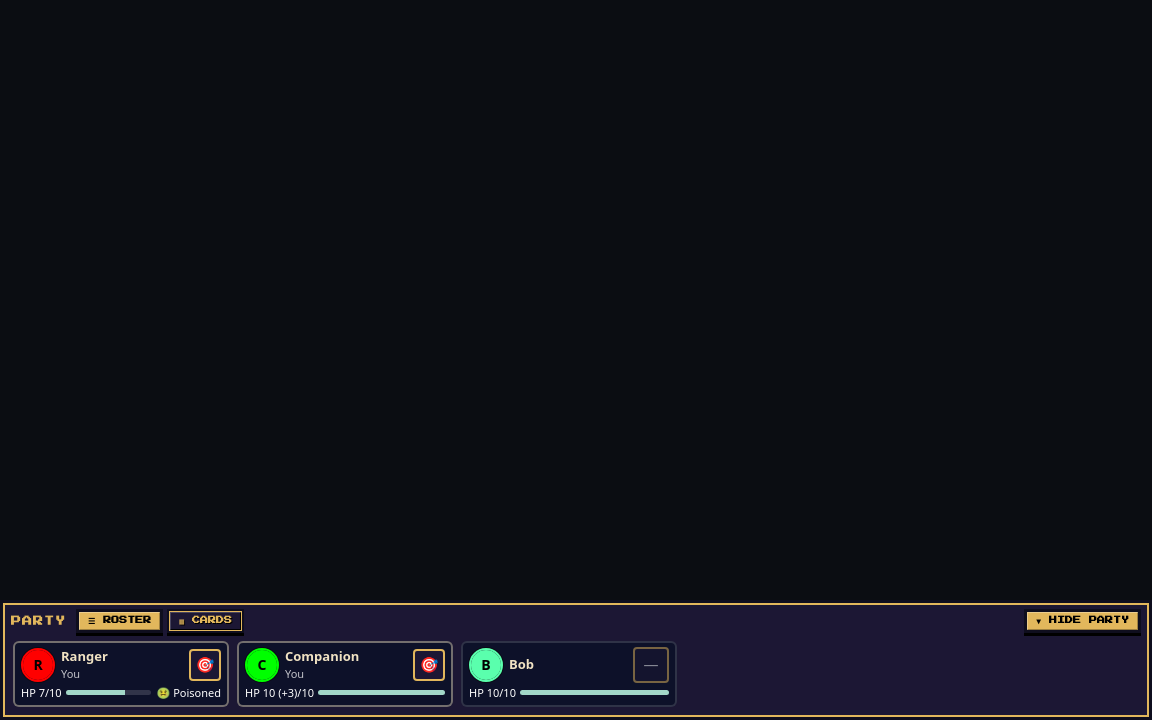
Test case: EntitiesPanel — the compact roster (U7) › Hide keeps the bar — and the launcher dock the bar reports — on screen
Check: the element showing "Party ☰ Roster ▦ Cards ▼ Hide party" is shown, box [11,608,1141,632]
What coordinates should you click on to do the following:
click the button "▼ Hide party"
I would click on:
 (1083, 620)
Its box is [1024,608,1141,632].
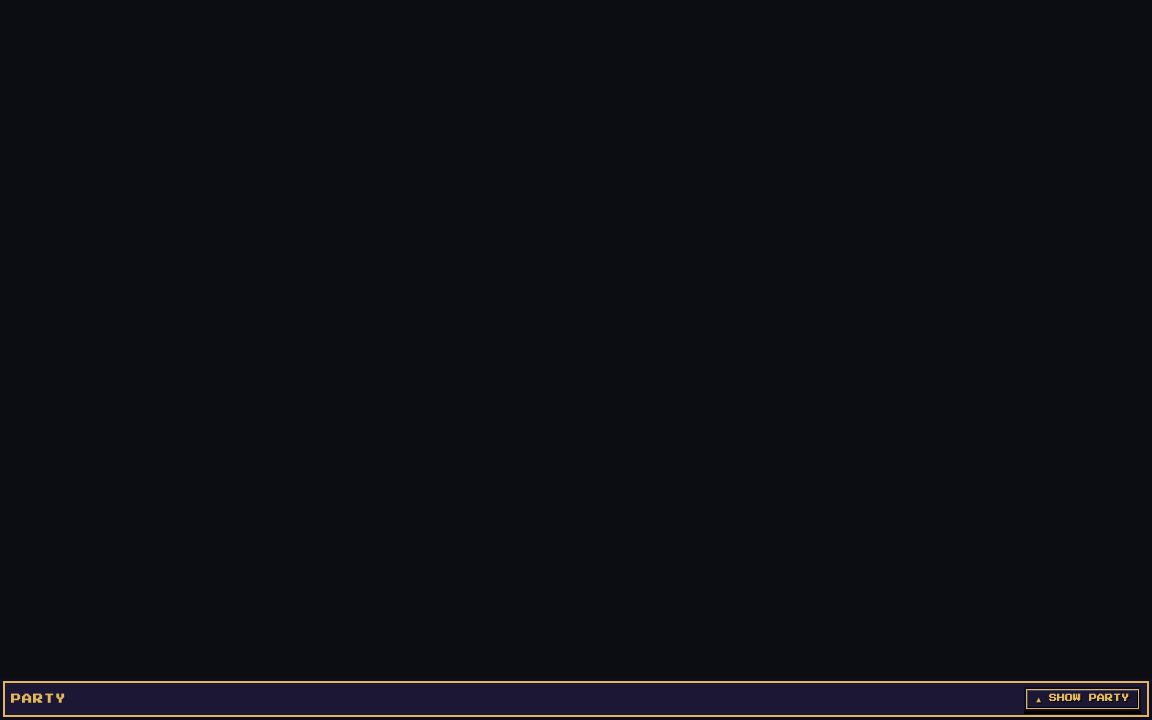
Check: the button "▲ Show party" is collapsed, box [1024,687,1141,711]
